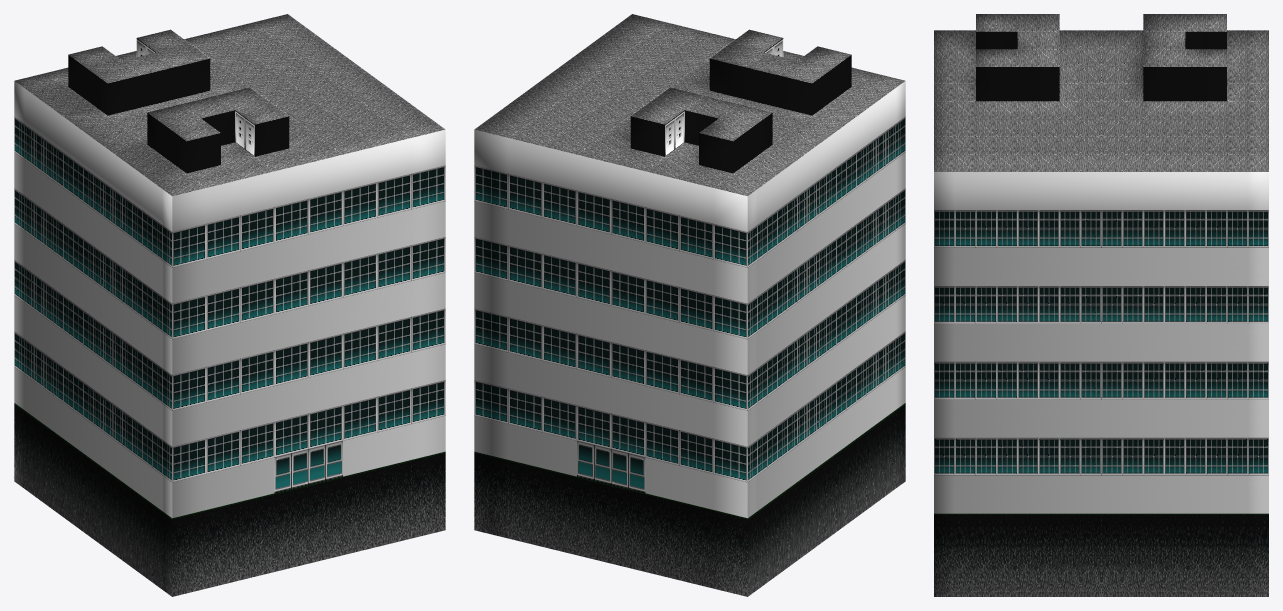
The model's file is kantoor_mod2_3a.fbx.
3 views of the same model, side by side, from view 1: azimuth 30°, elevation 25°; view 2: azimuth 150°, elevation 25°; view 3: azimuth 270°, elevation 25° (orthographic). The views are drawn at different scales.
Parts seen in each view (by area): view 1: kantoor_mod2_3a; view 2: kantoor_mod2_3a; view 3: kantoor_mod2_3a.
Part boxes in pixels (bbox=[...]): kantoor_mod2_3a: bbox=[14, 14, 445, 596]; kantoor_mod2_3a: bbox=[474, 14, 905, 596]; kantoor_mod2_3a: bbox=[934, 14, 1268, 596].
Bounding box in the file's own units: 2880 × 4356 × 2880.
